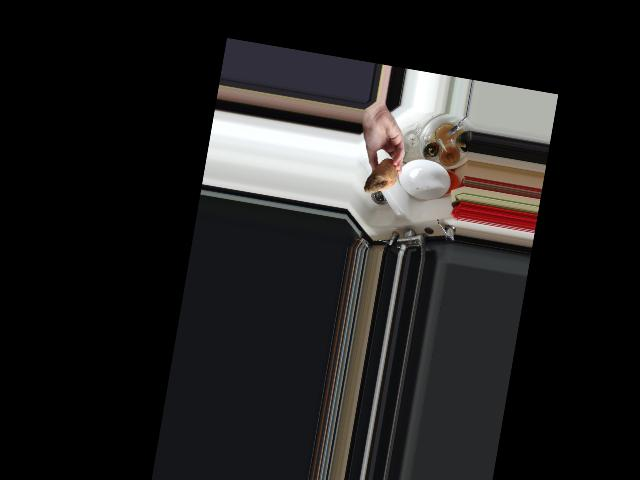sweet_potato: (360, 155, 401, 197)
